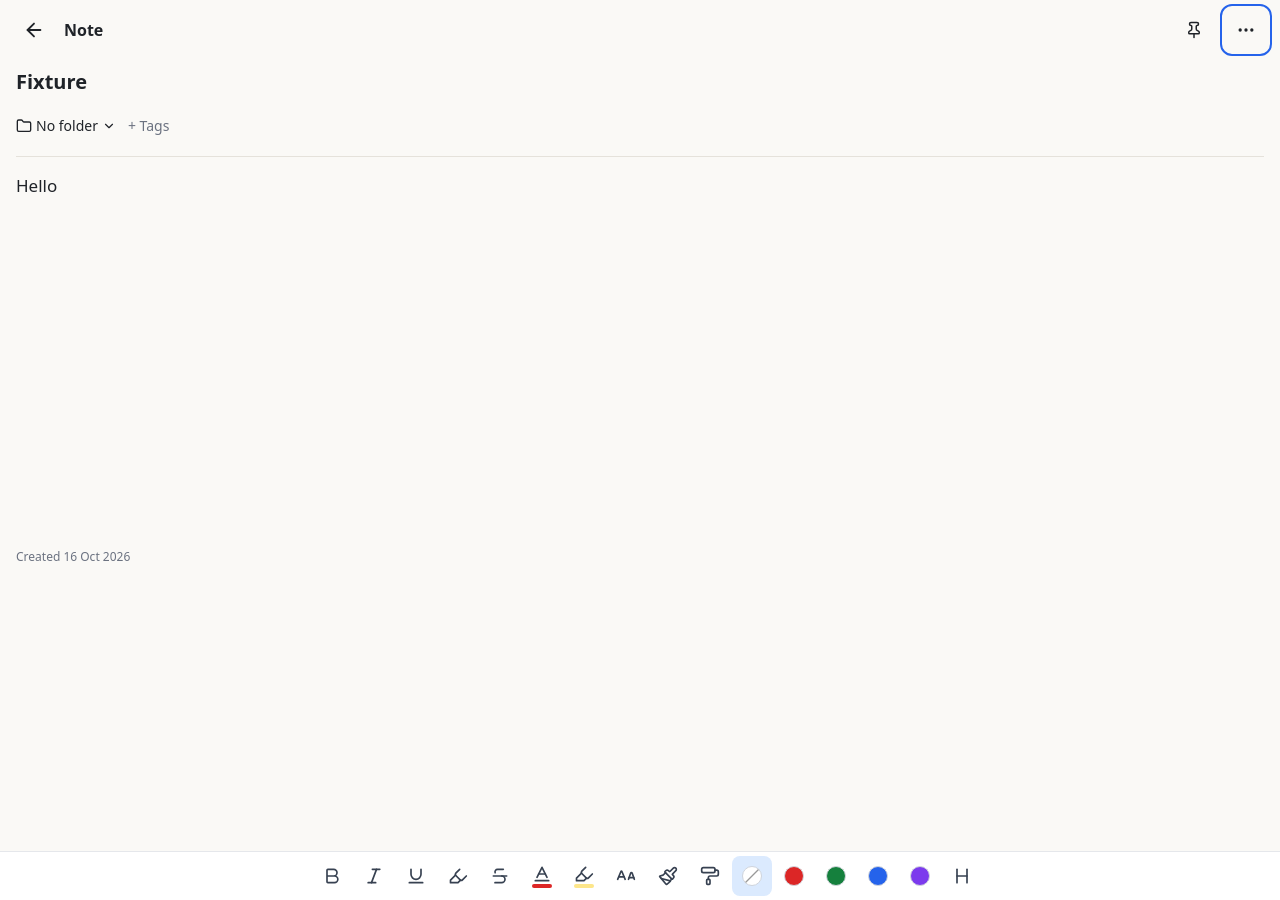
Test: reports an unsuccessful fallback (false) and cleans up
Click the button named "Note options": click(1246, 30) [1224,8,1268,52]
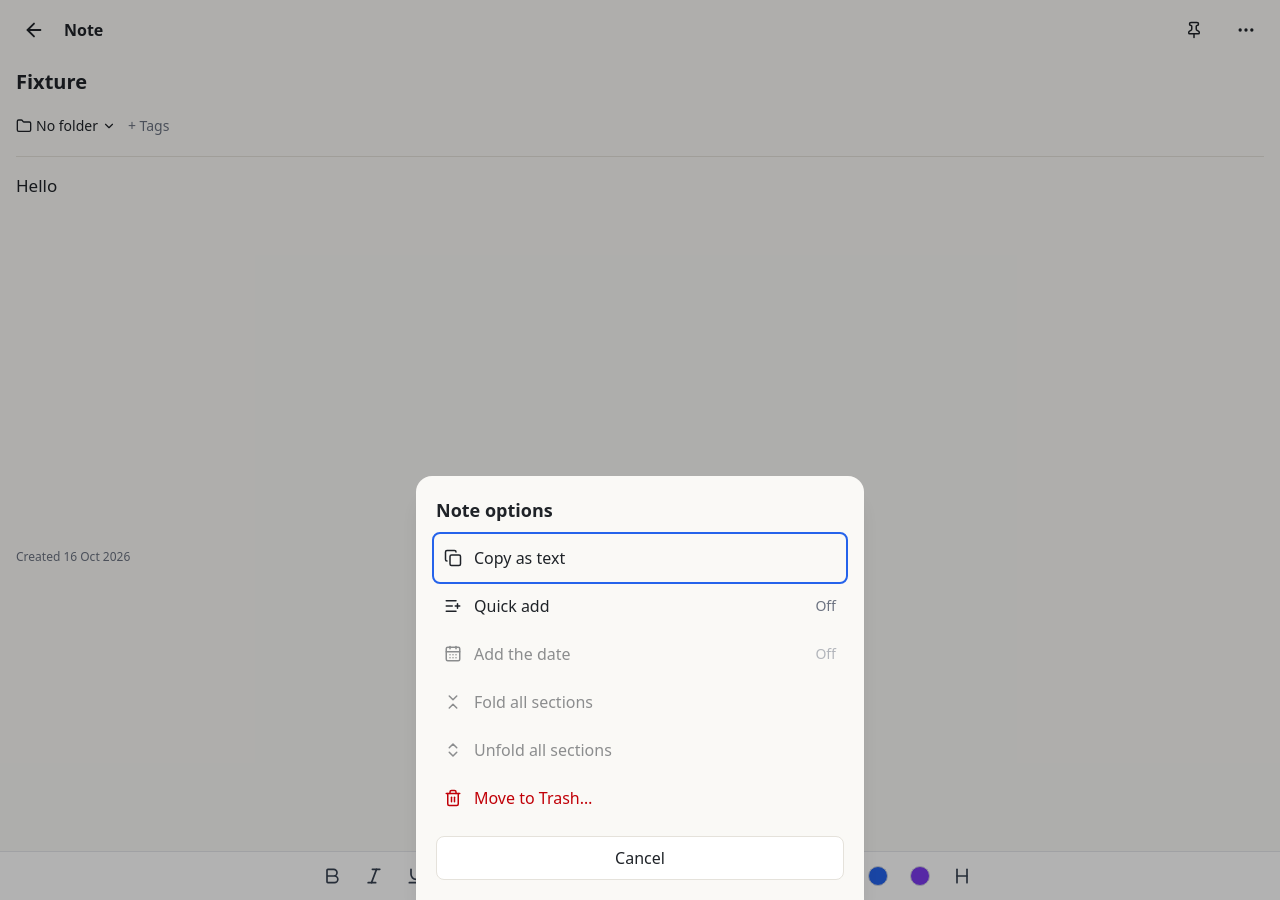
Click the button "Copy as text": click(520, 558) [436,536,844,580]
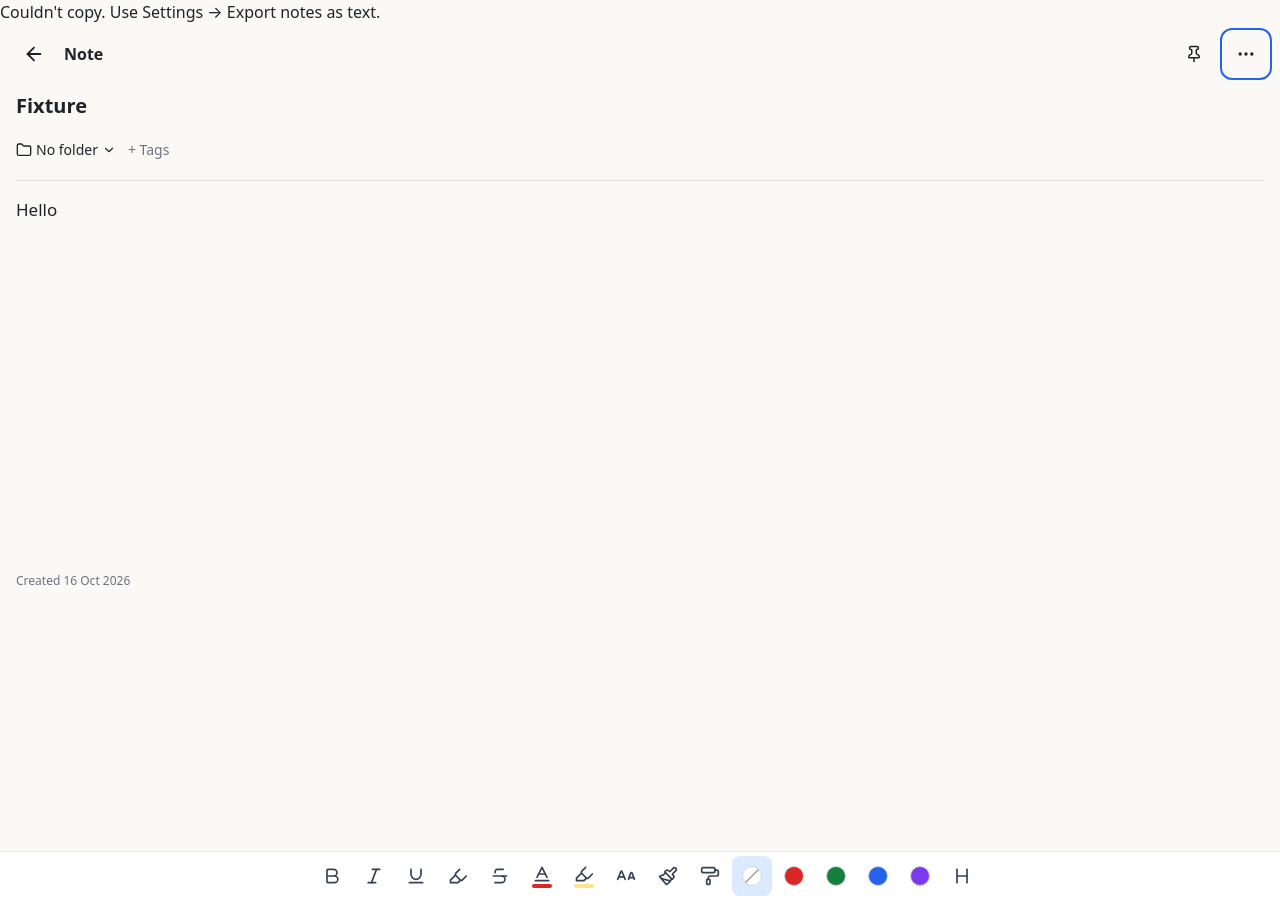
Expected: the text "Couldn't copy. Use Settings → Export notes as text." is shown, [0,1,380,23]
